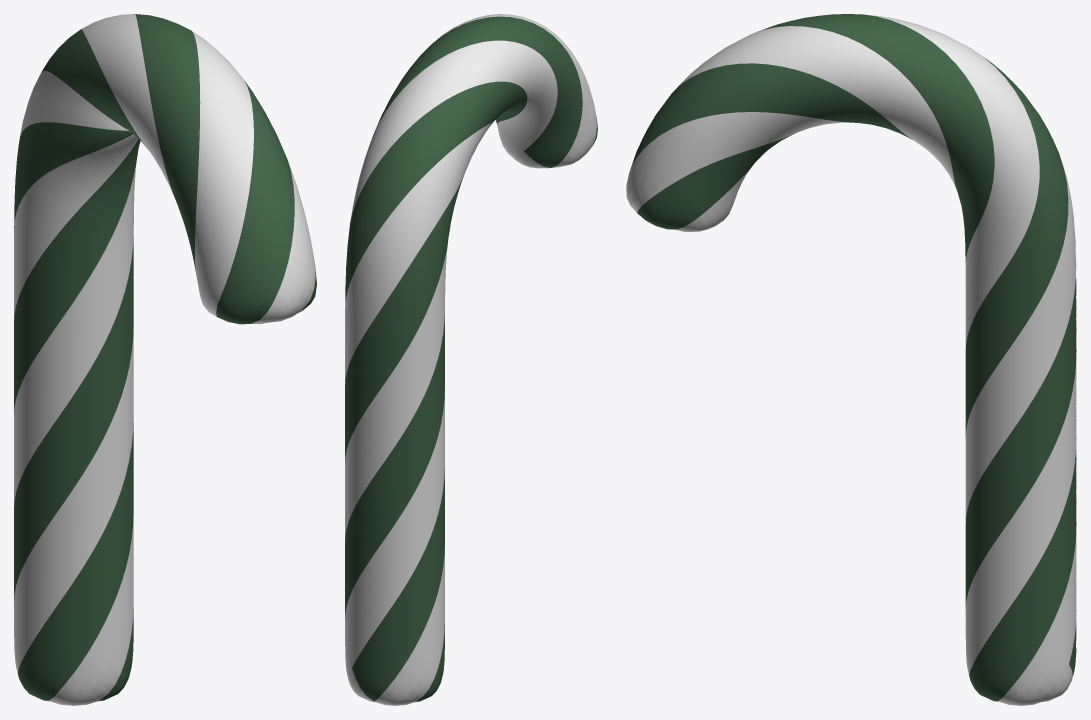
File: candy.glb
3 renders of one model, left to right at view 1: azimuth 30°, elevation 25°; view 2: azimuth 150°, elevation 25°; view 3: azimuth 270°, elevation 25°, orthographic. The views are drawn at different scales.
Parts seen in each view (by area): view 1: Circle; view 2: Circle; view 3: Circle.
Part boxes in pixels (<box>): Circle: <box>14,14,316,705</box>; Circle: <box>345,14,597,705</box>; Circle: <box>626,14,1076,705</box>.
Size of the model in its own units: 0.6389 by 4.3 by 2.6.
